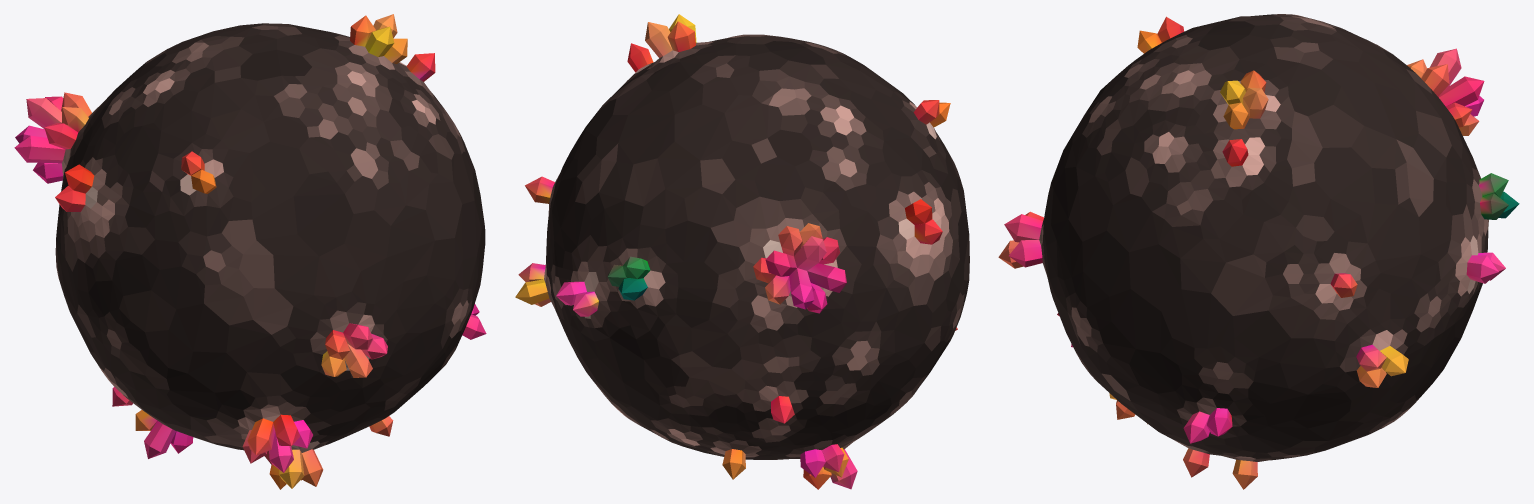
The model's file is Crystal_planet_7.fbx.
3 renders of one model, left to right at view 1: azimuth 30°, elevation 25°; view 2: azimuth 150°, elevation 25°; view 3: azimuth 270°, elevation 25°, orthographic. The views are drawn at different scales.
Parts seen in each view (by area): view 1: file6; view 2: file6; view 3: file6.
Part boxes in pixels (x1,y1,x2,y2): file6: [14, 14, 486, 489]; file6: [515, 14, 969, 489]; file6: [998, 14, 1519, 489].
Bounding box in the file's own units: 2.13 × 2.12 × 2.34.
